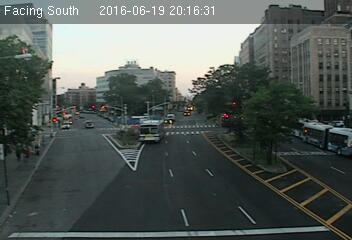neg: (177, 186, 201, 217), (238, 173, 260, 203), (116, 146, 136, 173), (61, 171, 80, 195), (26, 85, 44, 110), (62, 31, 80, 56), (118, 105, 136, 129), (295, 178, 313, 202), (180, 92, 198, 115), (315, 73, 333, 96), (270, 48, 287, 71), (56, 71, 73, 94), (113, 189, 130, 212), (156, 44, 172, 66), (81, 127, 97, 149), (273, 96, 288, 116), (219, 46, 234, 65), (229, 98, 243, 117), (63, 113, 77, 132), (319, 46, 333, 65), (319, 127, 332, 145), (146, 125, 158, 142), (242, 120, 254, 136), (265, 145, 277, 161), (99, 66, 110, 80)
pos: (11, 144, 25, 163), (32, 142, 43, 156)
